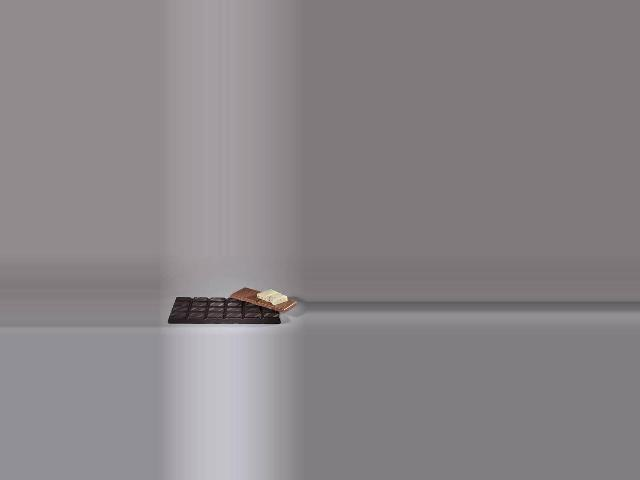chocolate: (167, 292, 287, 327)
